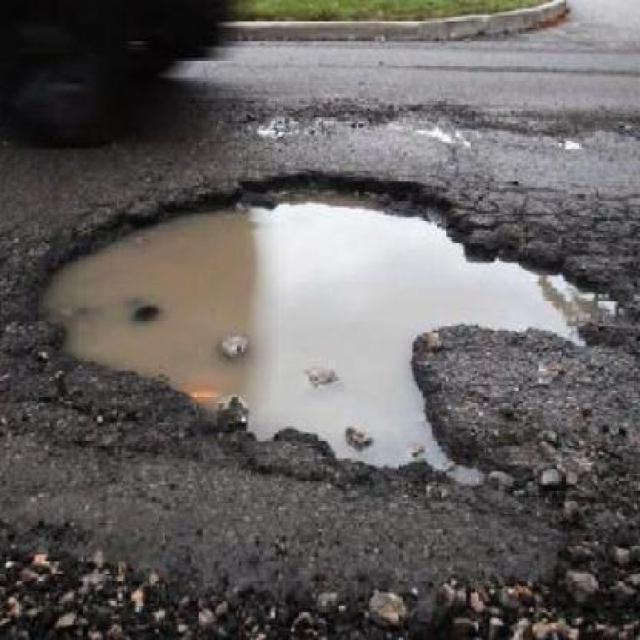pothole: (28, 159, 630, 493)
